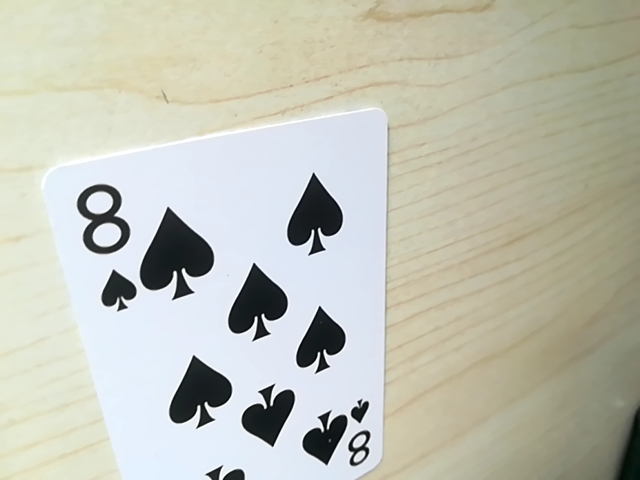ht 8: (69, 173, 147, 316), (331, 399, 376, 475)
